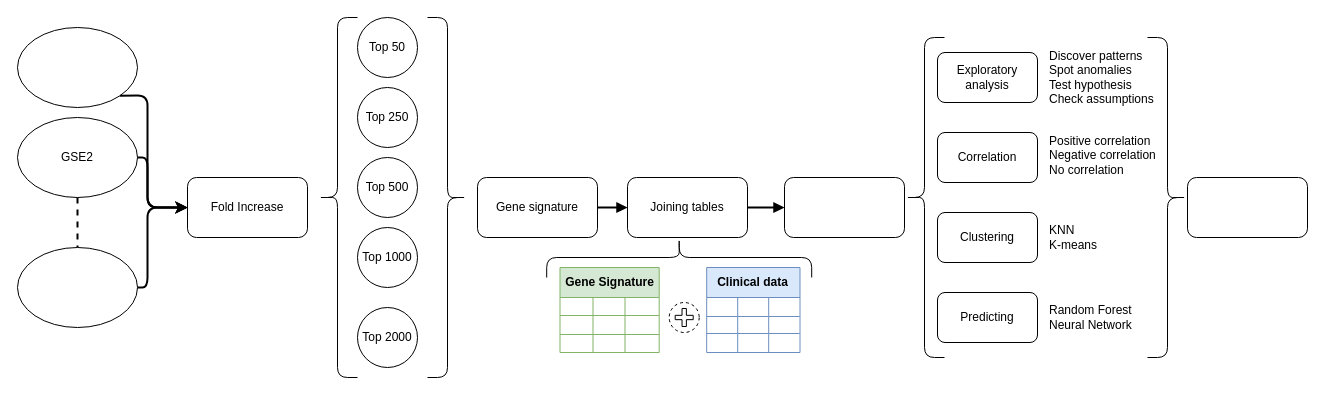
Image size: 1325x395. Some labels were removed from this diagram. Each missing label, with the box of its shape:
Conclusions: (1186, 176, 1308, 238)
GSE1: (16, 26, 138, 108)
GSEN: (16, 246, 138, 328)
Modelization process: (784, 176, 904, 238)
